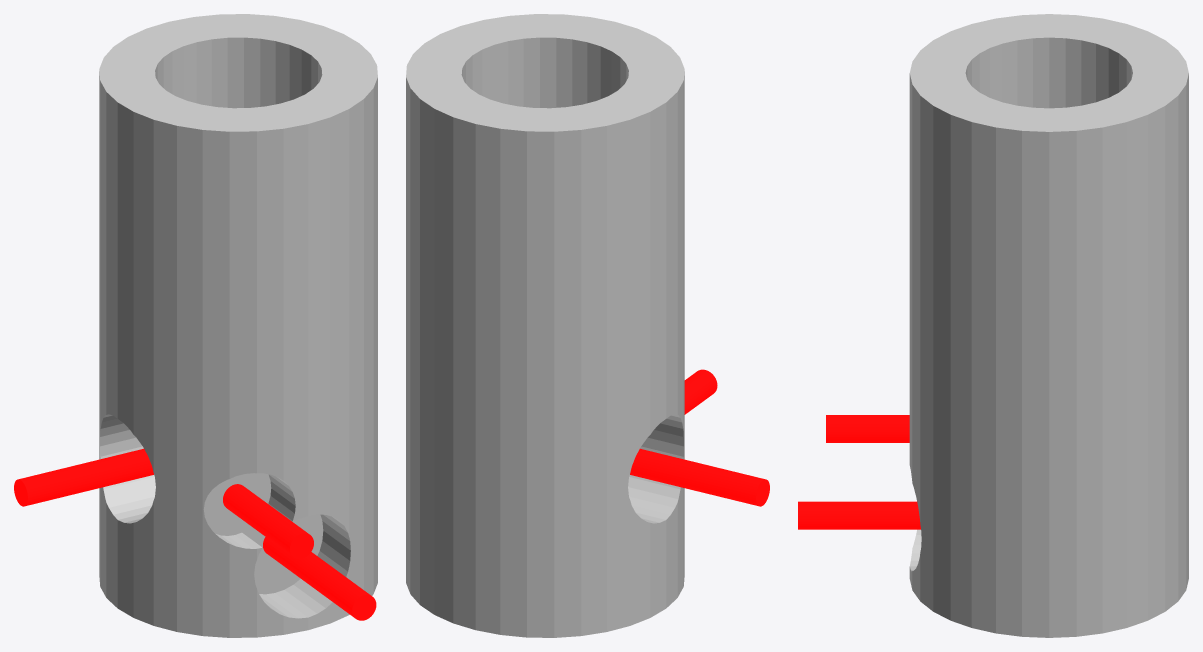
File: LOT130_e144eff4.glb
The picture shows the model from 3 angles, left to right: view 1: azimuth 30°, elevation 25°; view 2: azimuth 150°, elevation 25°; view 3: azimuth 270°, elevation 25°; orthographic projection.
Parts seen in each view (by area): view 1: Cylinder, Cylinder.004, Cylinder.002, Cylinder.006; view 2: Cylinder, Cylinder.004, Cylinder.006; view 3: Cylinder, Cylinder.002, Cylinder.006.
Part boxes in pixels (left/top/right/bottom): Cylinder: left=99, top=14, right=377, bottom=637; Cylinder.004: left=14, top=448, right=153, bottom=506; Cylinder.002: left=263, top=537, right=376, bottom=620; Cylinder.006: left=223, top=484, right=313, bottom=558; Cylinder: left=406, top=14, right=684, bottom=637; Cylinder.004: left=630, top=448, right=769, bottom=506; Cylinder.006: left=684, top=369, right=717, bottom=414; Cylinder: left=909, top=14, right=1188, bottom=637; Cylinder.002: left=798, top=501, right=920, bottom=529; Cylinder.006: left=826, top=415, right=909, bottom=442.
Bounding box in the file's own units: 1.4 × 2 × 1.4.
